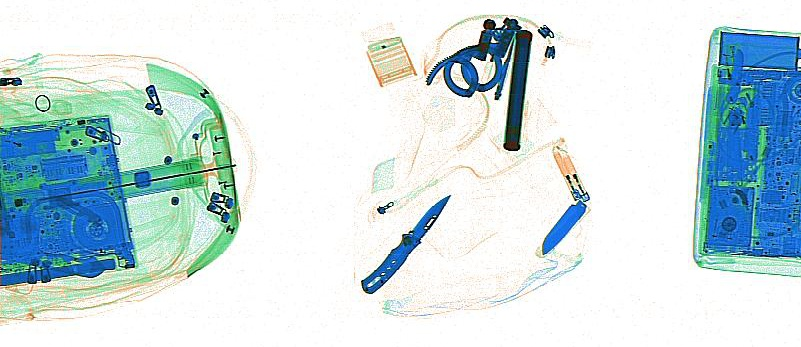handcuffs: (423, 17, 520, 98)
knife: (359, 191, 452, 296), (1, 209, 105, 277), (534, 199, 587, 259), (491, 34, 514, 100), (722, 47, 743, 103)
lighter: (550, 144, 590, 202)
zippooil: (716, 29, 799, 70)
